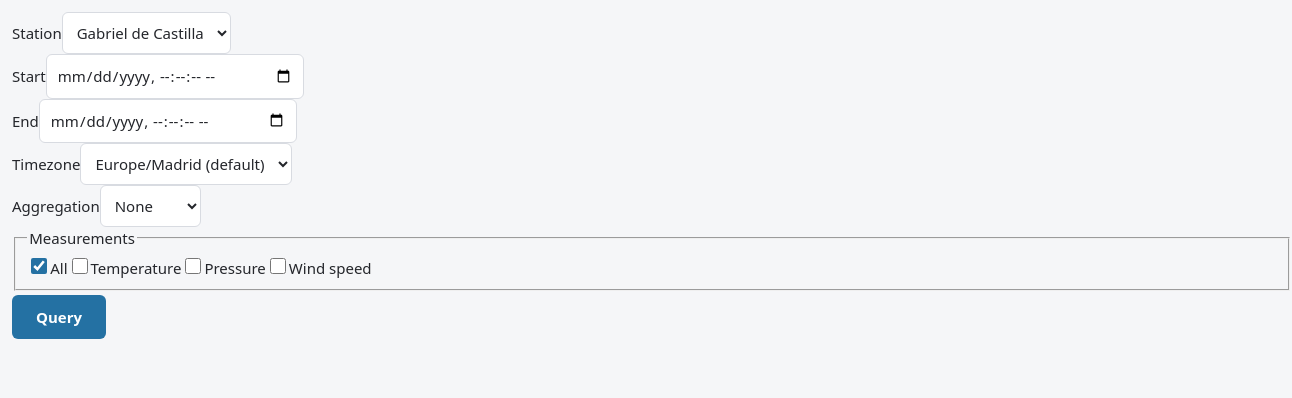
Scenario: QueryForm › rejects submission when start is not before end
The width and height of the screenshot is (1292, 398).
Step 1. Type "2024-01-15T12:00:00" into the field labelled "Start" → (175,76), box [46, 54, 304, 98]
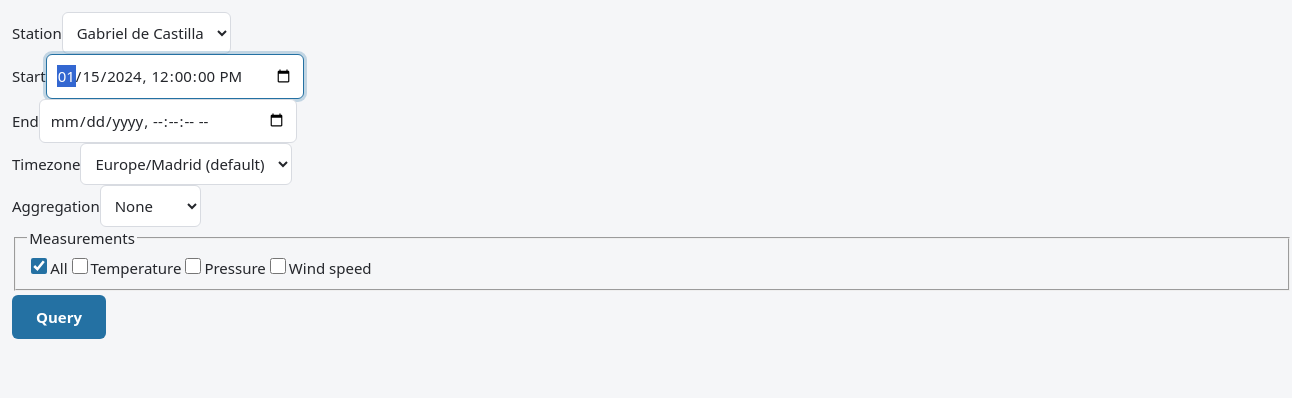
Step 2. Type "2024-01-15T06:00:00" into the field labelled "End" → (168,121), box [39, 98, 297, 143]
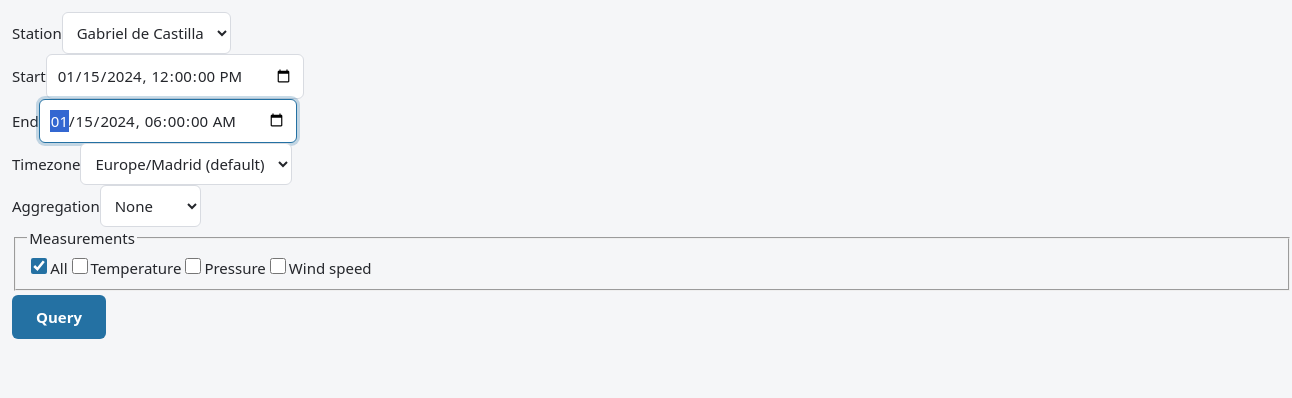
Step 3. Click the button "Query" → (59,317), box [12, 295, 106, 339]
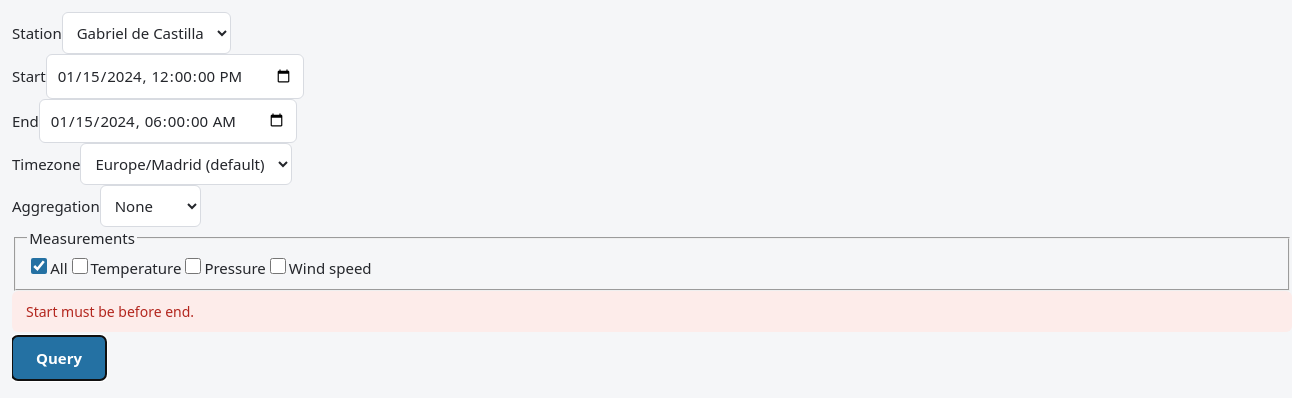
Check: the message reads "Start must be before end.", box [26, 302, 194, 321]
